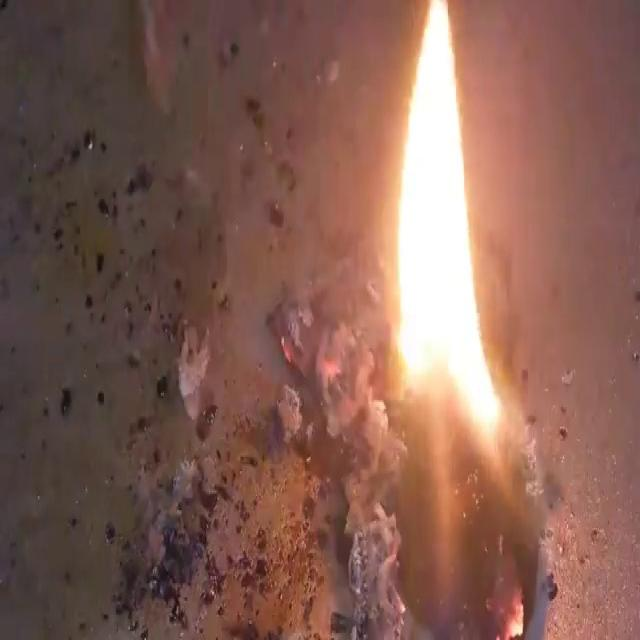Fire: (5, 2, 567, 636), (389, 4, 505, 448)
